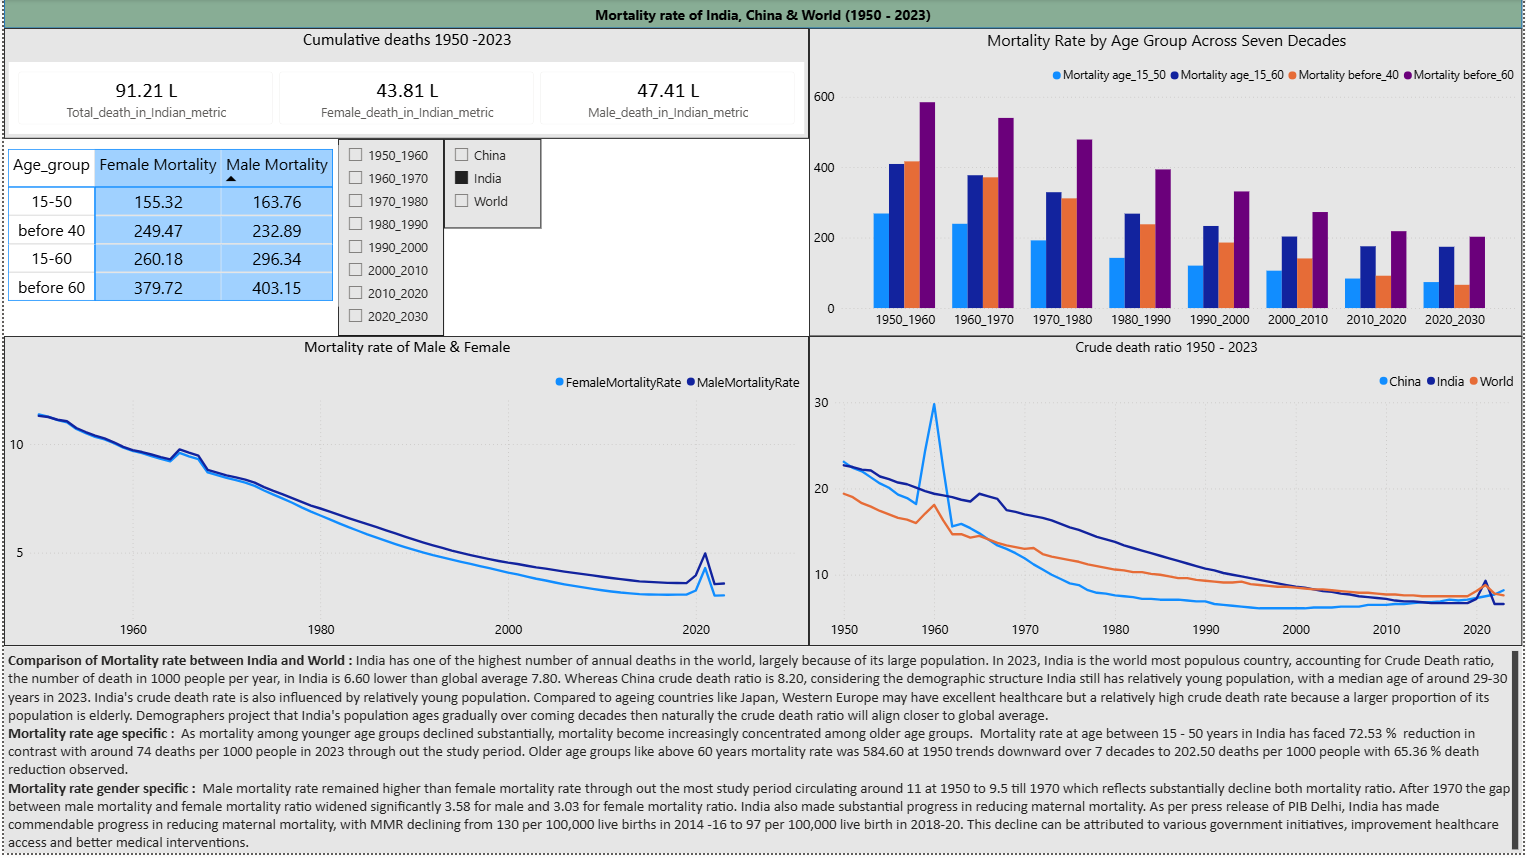

What the dashboard file says about the page in this screenshot:
{"tool":"powerbi","page":{"name":"Page 10","canvas":[1920,1080],"ordinal":9},"visuals":[{"type":"clusteredColumnChart","title":"Mortality Rate by Age Group Across Seven Decades","fields":{"Category":["mortality_rate.Decade_dax"],"Y":["Avg(mortality_rate.ma1_15_50)","Avg(mortality_rate.ma1_15_60)","Avg(mortality_rate.ma4_40)","Avg(mortality_rate.ma6_60)"]},"box":[1017.6,36.7,902.4,389.8],"z":0},{"type":"shape","box":[0,0,1920,37.1],"z":1000},{"type":"slicer","fields":{"Values":["mortality_rate.rsc_"]},"box":[556.9,177.2,122.8,112.6],"z":2000},{"type":"textbox","box":[0,818.9,1920,262],"z":3000},{"type":"lineChart","title":"Crude death ratio 1950 - 2023","fields":{"Category":["mortality_rate.year_"],"Series":["mortality_rate.rsc_"],"Y":["Avg(mortality_rate.cdr_)"]},"box":[1017.6,426.5,902.4,392.4],"z":4000},{"type":"cardVisual","title":"Cumulative deaths 1950 -2023","fields":{"Data":["mortality_rate.Total_death_in_Indian_metric","mortality_rate.Female_death_in_Indian_metric","mortality_rate.Male_death_in_Indian_metric"]},"box":[0,36.7,1018,140.4],"z":5000},{"type":"slicer","fields":{"Values":["mortality_rate.Decade_dax"]},"box":[422.7,177.2,134.1,249.1],"z":6000},{"type":"lineChart","title":"Mortality rate of Male & Female ","fields":{"Category":["FemaleMaleMortalityRate.Year"],"Y":["Avg(FemaleMaleMortalityRate.FemaleMortalityRate)","Avg(FemaleMaleMortalityRate.MaleMortalityRate)"]},"box":[0,426.5,1017.6,392.4],"z":7000},{"type":"pivotTable","fields":{"Rows":["Agegroups.Age_group"],"Values":["mortality_rate.Female Mortality","mortality_rate.Male Mortality"]},"box":[0,184.8,422.7,203.8],"z":9000}]}

Visuals, with their boxes in screenshot pixels (x1, y1, x2, y2), scaled from the page's 1920x1080 canvas onto the 1526x858 screenshot:
"Mortality Rate by Age Group Across Seven Decades" clusteredColumnChart: <box>809,29,1525,339</box>
shape: <box>0,0,1525,29</box>
slicer - mortality_rate.rsc_: <box>443,141,540,230</box>
textbox: <box>0,651,1525,857</box>
"Crude death ratio 1950 - 2023" lineChart: <box>809,339,1525,651</box>
"Cumulative deaths 1950 -2023" cardVisual: <box>0,29,809,141</box>
slicer - mortality_rate.Decade_dax: <box>336,141,443,339</box>
"Mortality rate of Male & Female " lineChart: <box>0,339,809,651</box>
pivotTable - Agegroups.Age_group x mortality_rate.Female Mortality: <box>0,147,336,309</box>
